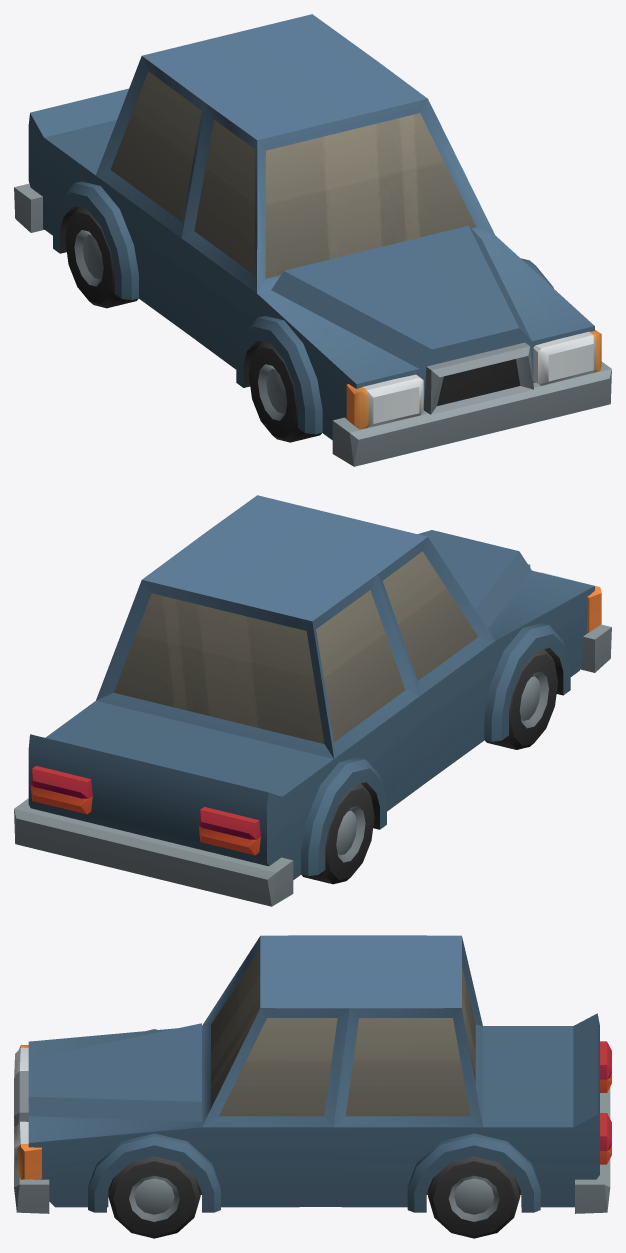
The model's file is car.glb.
3 renders of one model, top to bottom at view 1: azimuth 30°, elevation 25°; view 2: azimuth 150°, elevation 25°; view 3: azimuth 270°, elevation 25°, orthographic. The views are drawn at different scales.
Visible parts, largest first — view 1: Cube.13729, car_sedan_wheel_rear_right, car_sedan_wheel_front_right; view 2: Cube.13729, car_sedan_wheel_rear_right, car_sedan_wheel_front_right; view 3: Cube.13729, car_sedan_wheel_front_left, car_sedan_wheel_rear_left.
Part boxes in pixels (x1,y1,x2,y2): Cube.13729: (14,14,611,466); car_sedan_wheel_rear_right: (65,207,138,308); car_sedan_wheel_front_right: (249,341,321,442); Cube.13729: (14,495,611,906); car_sedan_wheel_rear_right: (301,783,374,884); car_sedan_wheel_front_right: (485,649,557,749); Cube.13729: (14,935,611,1213); car_sedan_wheel_front_left: (108,1156,200,1238); car_sedan_wheel_rear_left: (428,1156,520,1238).
Size of the model in its own units: 2.05 by 1.81 by 4.6.
1 material, 1 textured.
